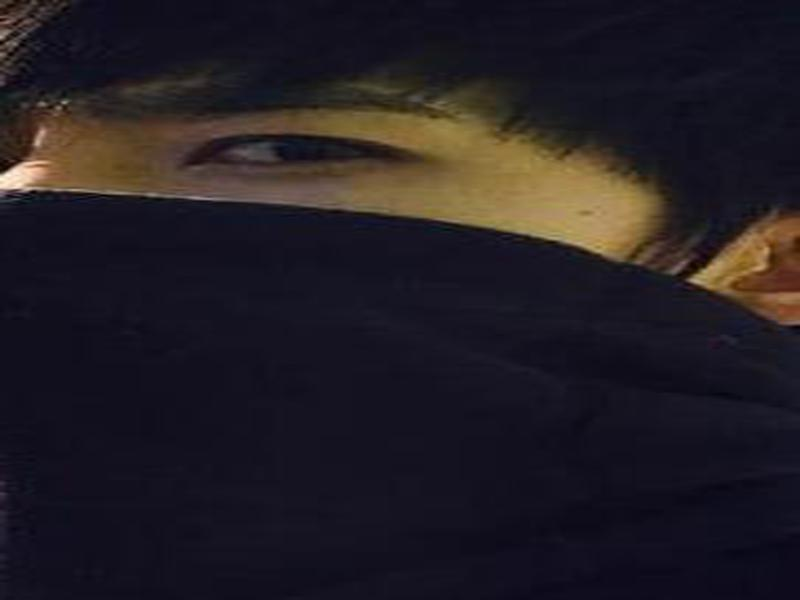with_mask: (1, 5, 791, 600)
